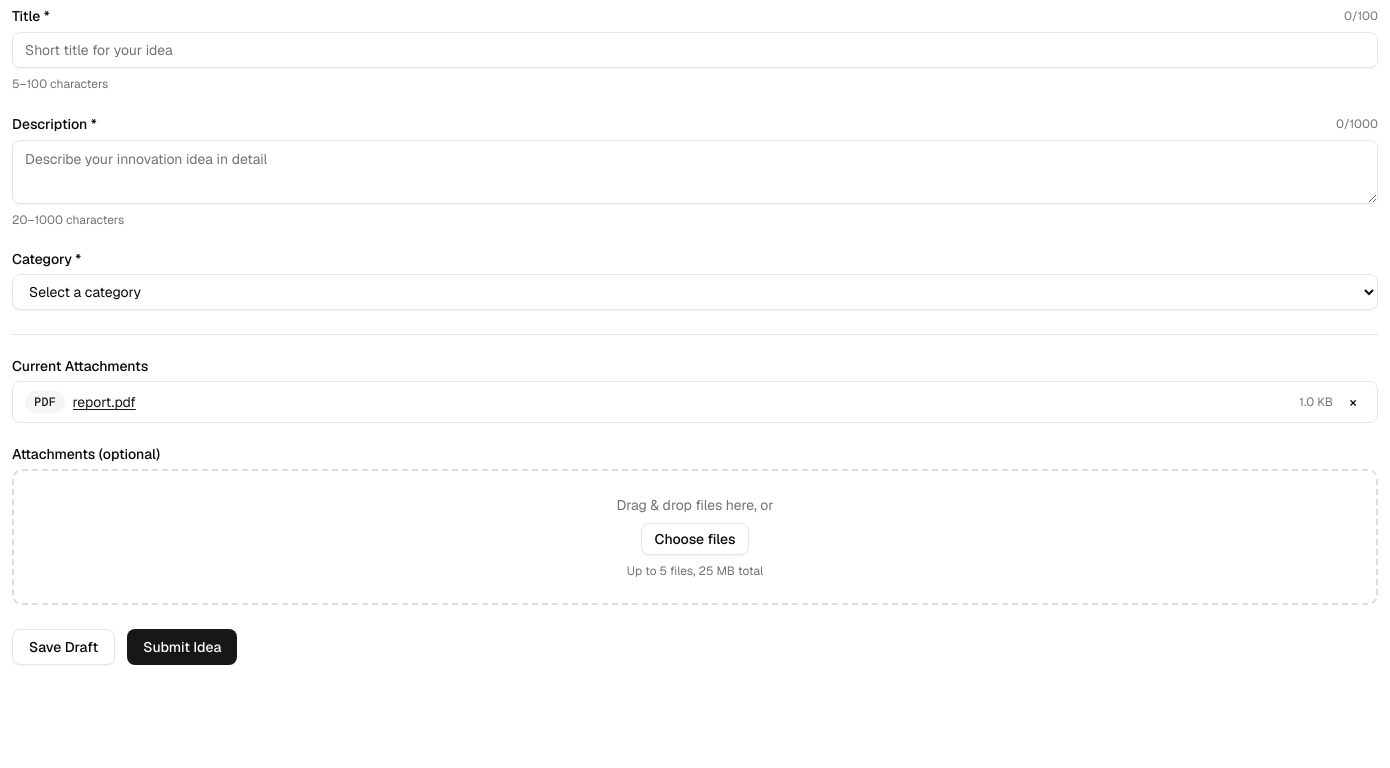
it: IdeaForm — extended coverage › removes existing attachment when remove button is clicked
Expected: the link "report.pdf" is shown, x1=73 y1=393 x2=136 y2=411
Click the button named "remove report.pdf" at (1353, 402), box x1=1341 y1=390 x2=1365 y2=414
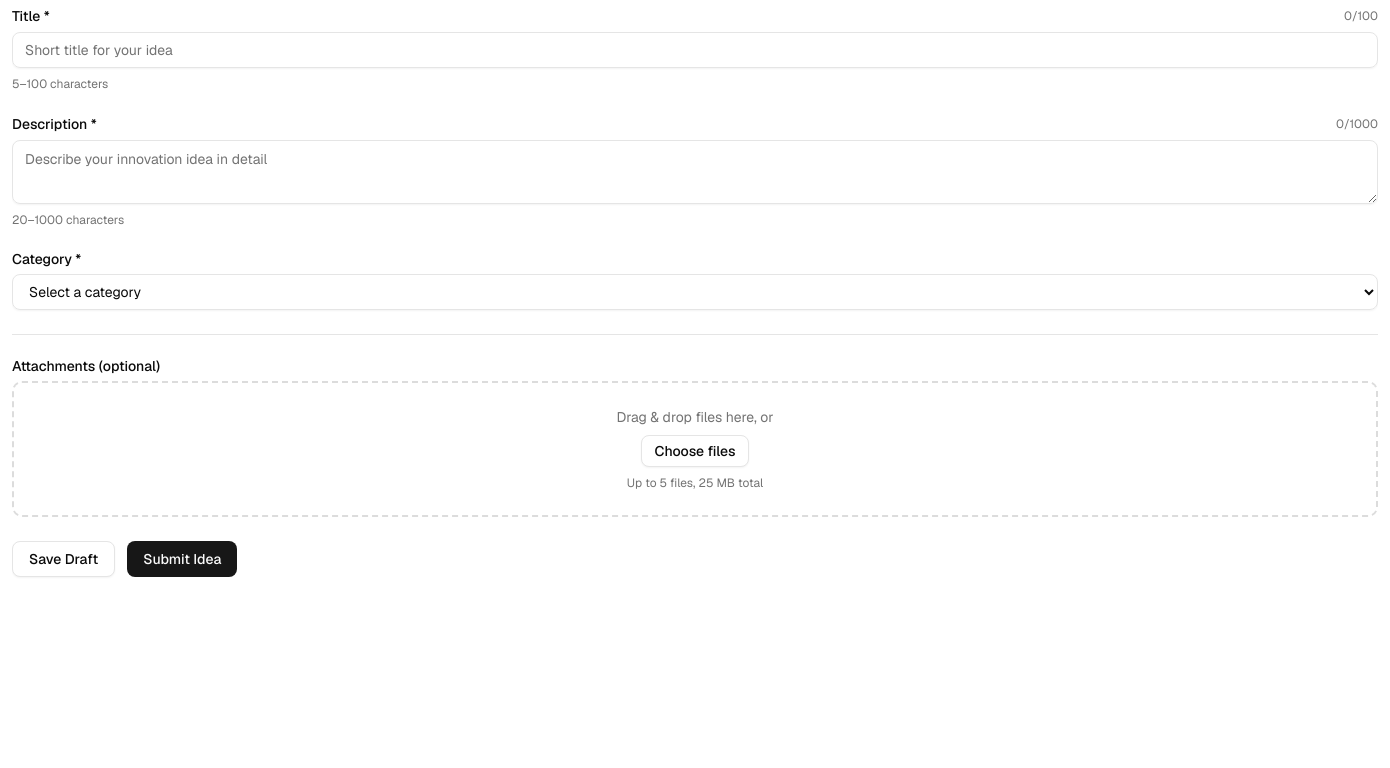
Now the link "report.pdf" is gone
